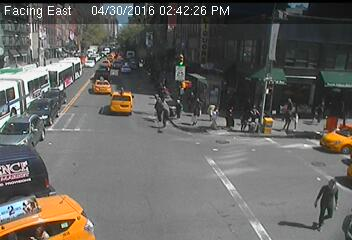neg: (17, 129, 42, 163), (224, 176, 248, 208), (148, 186, 168, 212), (140, 146, 155, 166), (48, 202, 63, 221), (43, 46, 55, 63), (13, 71, 25, 87), (27, 163, 39, 178), (78, 113, 88, 127), (87, 27, 97, 40)
